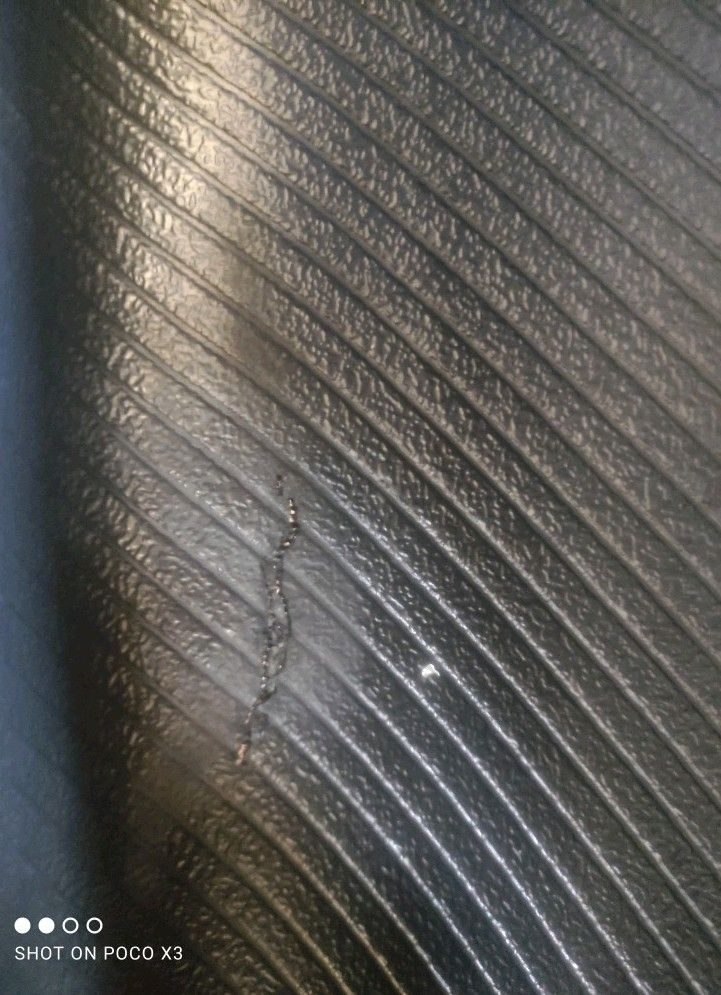CBU: (210, 466, 315, 793)
